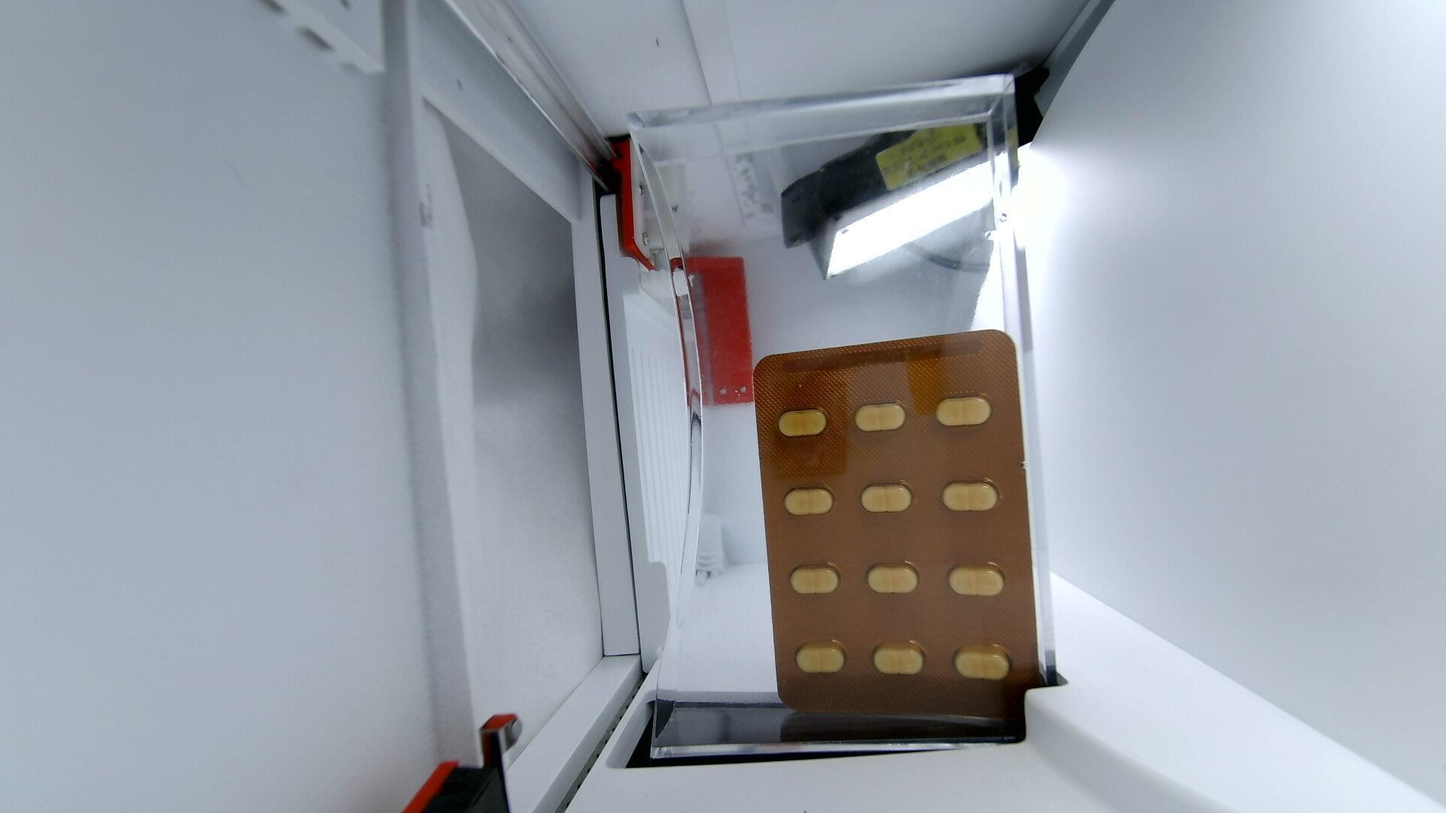Light Front: (755, 330, 1045, 717)
Pill Front: (942, 479, 1002, 512), (954, 644, 1010, 679), (871, 641, 925, 674), (949, 565, 1005, 595), (936, 396, 991, 426), (796, 641, 845, 673), (867, 563, 918, 593), (861, 482, 912, 511), (786, 487, 834, 516), (856, 403, 905, 431), (790, 565, 839, 593), (778, 409, 826, 437)
